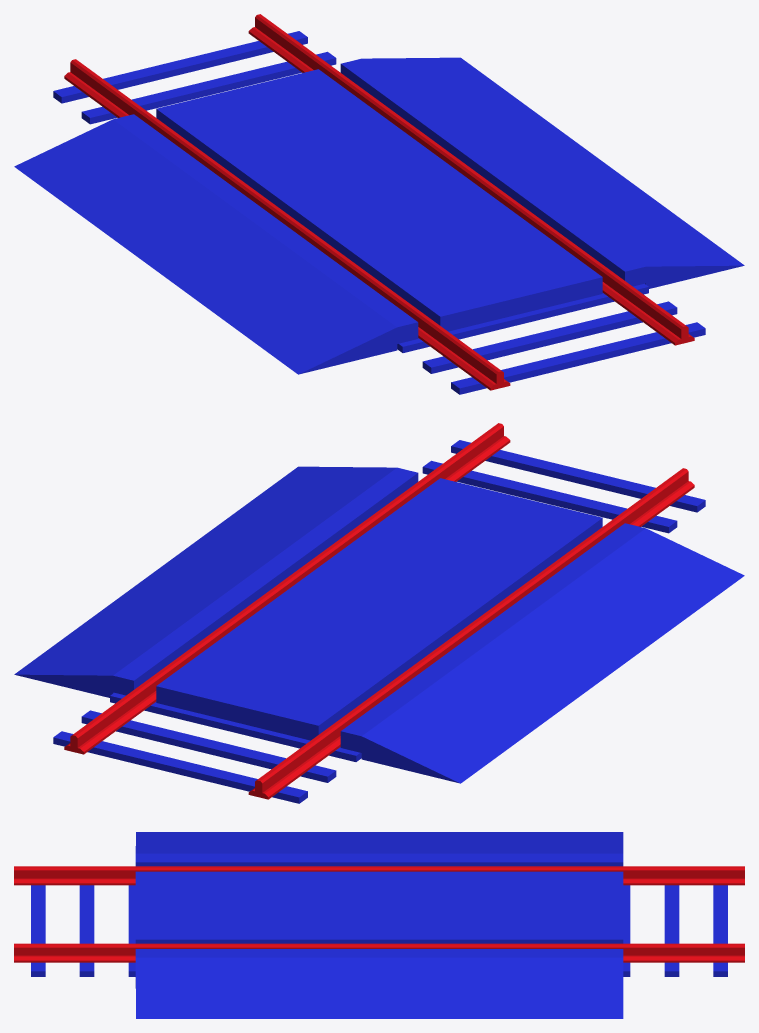
File: Tracks2.fbx
3 views of the same model, one above another, from view 1: azimuth 30°, elevation 25°; view 2: azimuth 150°, elevation 25°; view 3: azimuth 270°, elevation 25° (orthographic). The views are drawn at different scales.
Parts seen in each view (by area): view 1: Tracks2; view 2: Tracks2; view 3: Tracks2.
Boxes of the visible parts, x1=… form: Tracks2: x1=14, y1=14, x2=744, y2=394; Tracks2: x1=14, y1=423, x2=744, y2=803; Tracks2: x1=14, y1=832, x2=744, y2=1018.
Bounding box in the file's own units: 363 × 18 × 600.
